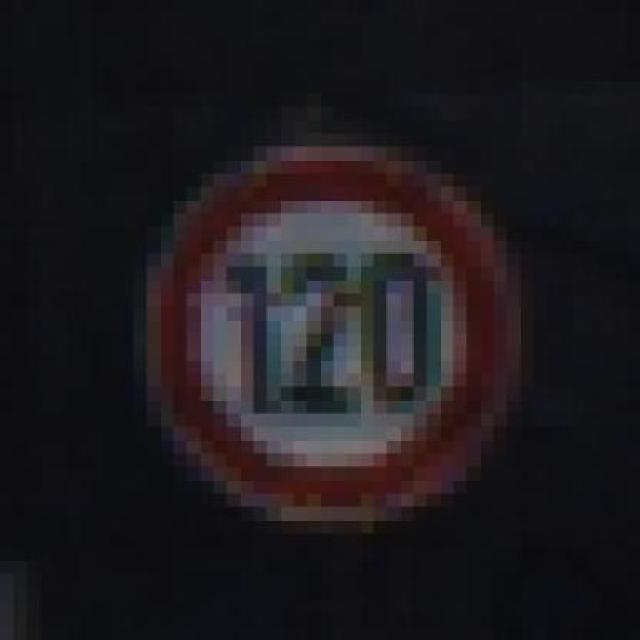forb_speed_over_120: (159, 154, 513, 520)
